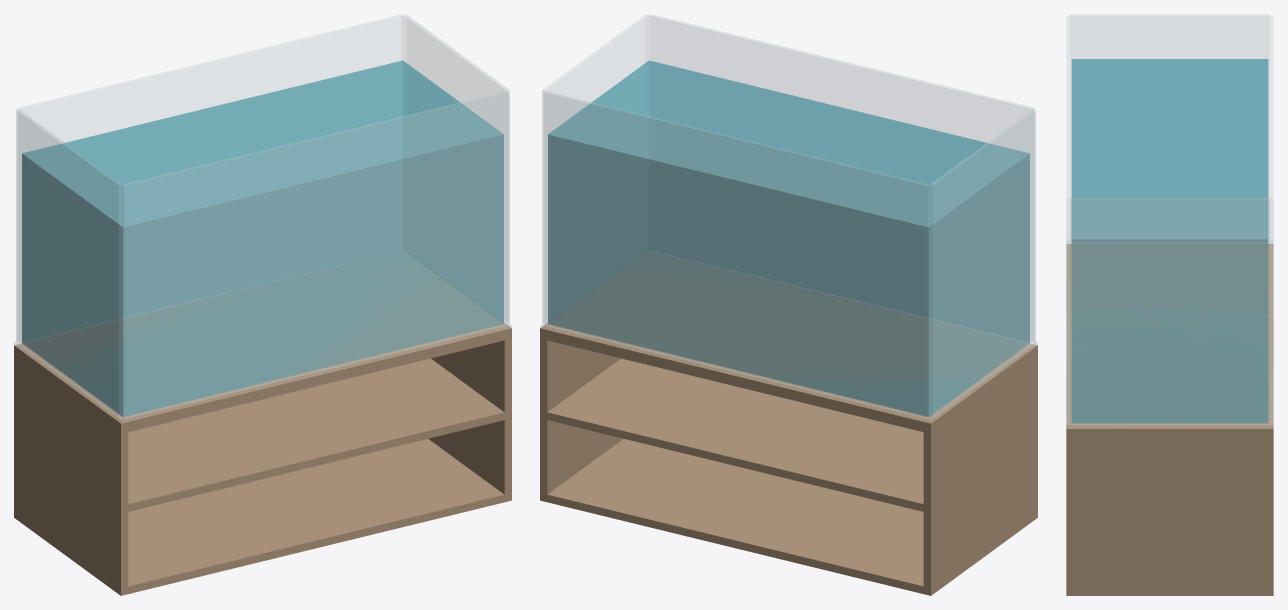
The model's file is aquarium_shelf.glb.
3 views of the same model, side by side, from view 1: azimuth 30°, elevation 25°; view 2: azimuth 150°, elevation 25°; view 3: azimuth 270°, elevation 25° (orthographic). The views are drawn at different scales.
Visible parts, largest first — view 1: Tank - water volume (provisional), Tank - front glass, Stand - bottom shelf, Stand - middle shelf, Tank - left glass, Stand - left side, Tank - back glass, Stand - top support, Stand - right side, Tank - right glass, Tank - glass base; view 2: Tank - water volume (provisional), Tank - back glass, Stand - top support, Stand - bottom shelf, Stand - middle shelf, Tank - left glass, Stand - left side, Tank - front glass, Stand - right side, Tank - right glass, Tank - glass base; view 3: Tank - water volume (provisional), Tank - right glass, Stand - right side, Stand - top support, Tank - left glass, Tank - back glass, Tank - front glass, Tank - glass base.
Part boxes in pixels (x1,y1,x2,y2): Tank - water volume (provisional): (22, 60, 503, 416); Tank - front glass: (122, 91, 508, 418); Stand - bottom shelf: (128, 439, 504, 593); Stand - middle shelf: (128, 358, 504, 511); Tank - left glass: (16, 109, 121, 418); Stand - left side: (14, 356, 128, 595); Tank - back glass: (17, 14, 403, 340); Stand - top support: (14, 265, 511, 433); Stand - right side: (428, 323, 511, 502); Tank - right glass: (404, 15, 509, 323); Tank - glass base: (14, 323, 511, 422); Tank - water volume (provisional): (548, 60, 1029, 416); Tank - back glass: (543, 91, 929, 418); Stand - top support: (540, 258, 1037, 433); Stand - bottom shelf: (547, 439, 923, 593); Stand - middle shelf: (547, 358, 923, 511); Tank - left glass: (930, 109, 1035, 418); Stand - left side: (923, 351, 1037, 595); Tank - front glass: (648, 14, 1034, 340); Stand - right side: (540, 282, 623, 502); Tank - right glass: (542, 15, 647, 323); Tank - glass base: (540, 323, 1037, 422); Tank - water volume (provisional): (1071, 59, 1268, 423); Tank - right glass: (1070, 198, 1269, 425); Stand - right side: (1066, 425, 1273, 595); Stand - top support: (1066, 243, 1273, 438); Tank - left glass: (1070, 14, 1269, 241); Tank - back glass: (1270, 16, 1273, 423); Tank - front glass: (1066, 16, 1069, 423); Tank - glass base: (1067, 241, 1273, 428).
Bounding box in the file's own units: 0.95 × 0.95 × 0.45.
